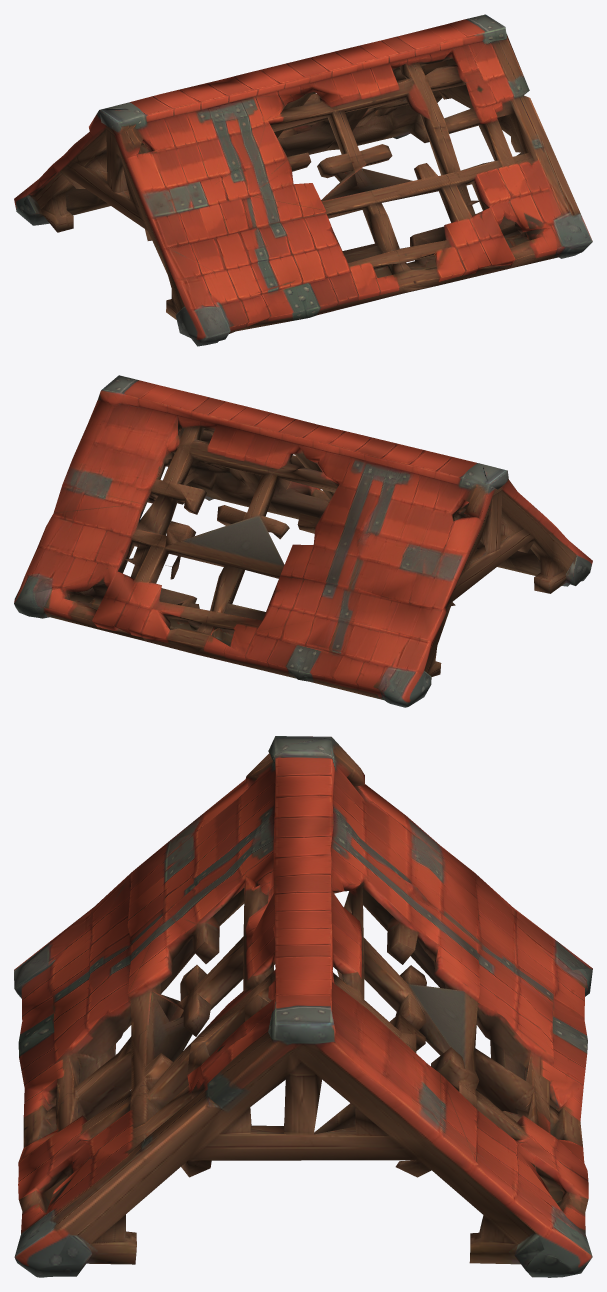
File: BarnRoof.fbx
The picture shows the model from 3 angles, top to bottom: view 1: azimuth 30°, elevation 25°; view 2: azimuth 150°, elevation 25°; view 3: azimuth 270°, elevation 25°; orthographic projection. The views are drawn at different scales.
Visible parts, largest first — view 1: Mesh_0; view 2: Mesh_0; view 3: Mesh_0.
Boxes of the visible parts, x1,y1,x2,y2 form: Mesh_0: (14,14,592,346); Mesh_0: (14,375,592,707); Mesh_0: (14,736,592,1277).
Size of the model in its own units: 191 by 79.15 by 156.
1 material, 1 textured.
